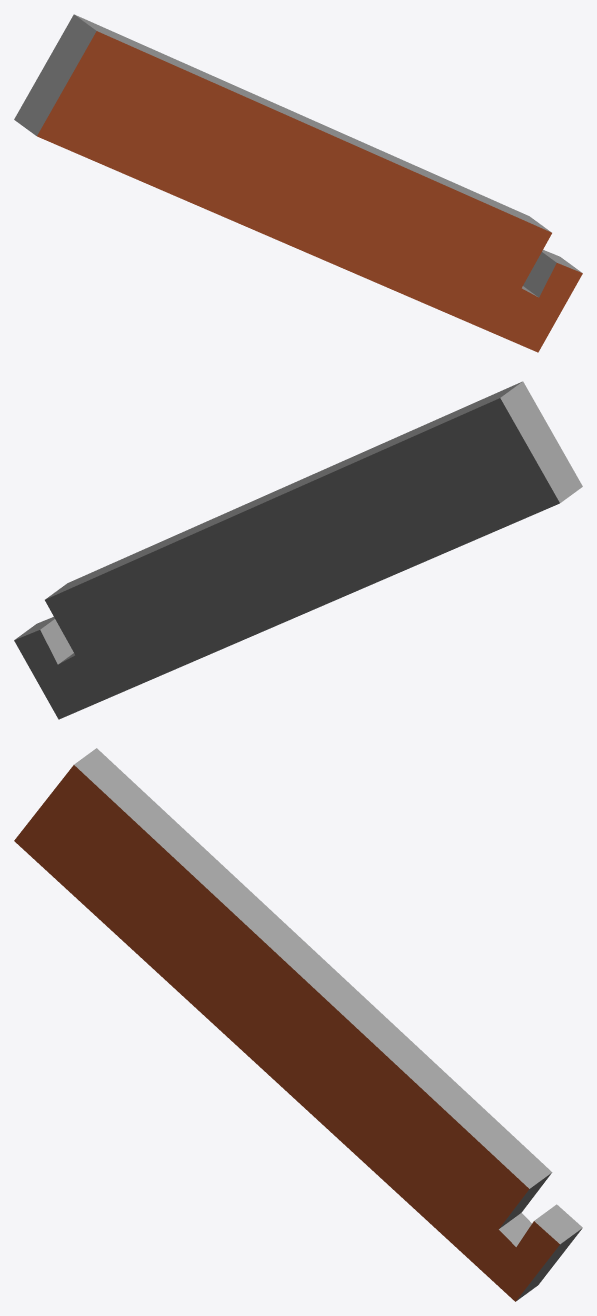
File: construction_4303_assumed_A_Casa_h6m.obj
3 renders of one model, top to bottom at view 1: azimuth 30°, elevation 25°; view 2: azimuth 150°, elevation 25°; view 3: azimuth 330°, elevation 25°, orthographic.
Visible parts, largest first — view 1: construction_4303_assumed_A_Casa; view 2: construction_4303_assumed_A_Casa; view 3: construction_4303_assumed_A_Casa.
Part boxes in pixels (left/top/right/bottom): construction_4303_assumed_A_Casa: left=14, top=14, right=582, bottom=352; construction_4303_assumed_A_Casa: left=14, top=381, right=582, bottom=719; construction_4303_assumed_A_Casa: left=14, top=748, right=582, bottom=1301.
Size of the model in its own units: 82.86 by 62.27 by 6.
